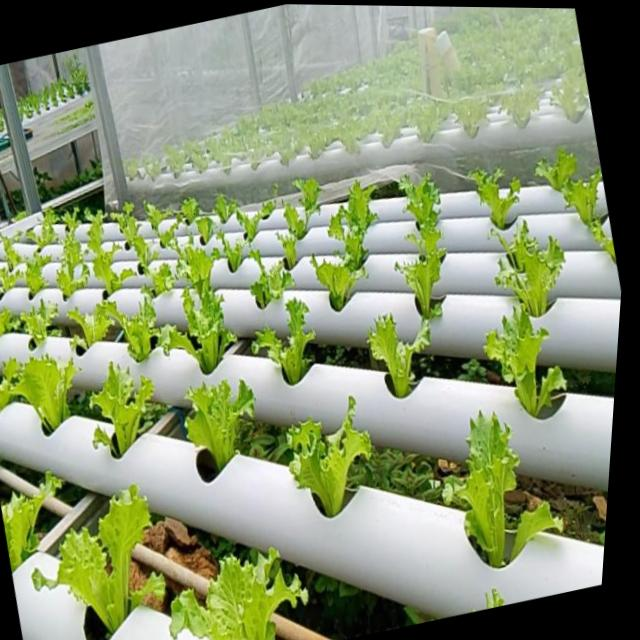Baby: (32, 481, 164, 627), (169, 545, 305, 640), (440, 411, 514, 566), (285, 397, 370, 517), (480, 307, 560, 418), (393, 178, 443, 330), (183, 381, 253, 481), (490, 224, 559, 320), (88, 362, 152, 457), (10, 350, 78, 431), (250, 300, 313, 386), (93, 292, 168, 362), (365, 315, 426, 399), (326, 183, 373, 271), (554, 173, 603, 246), (233, 252, 292, 311), (465, 172, 516, 233), (308, 258, 364, 313), (53, 214, 87, 299), (174, 238, 218, 300), (23, 208, 55, 247), (21, 251, 46, 294), (147, 263, 172, 295), (0, 236, 20, 270), (153, 221, 175, 250)
